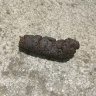Dog: (19, 35, 80, 63)
